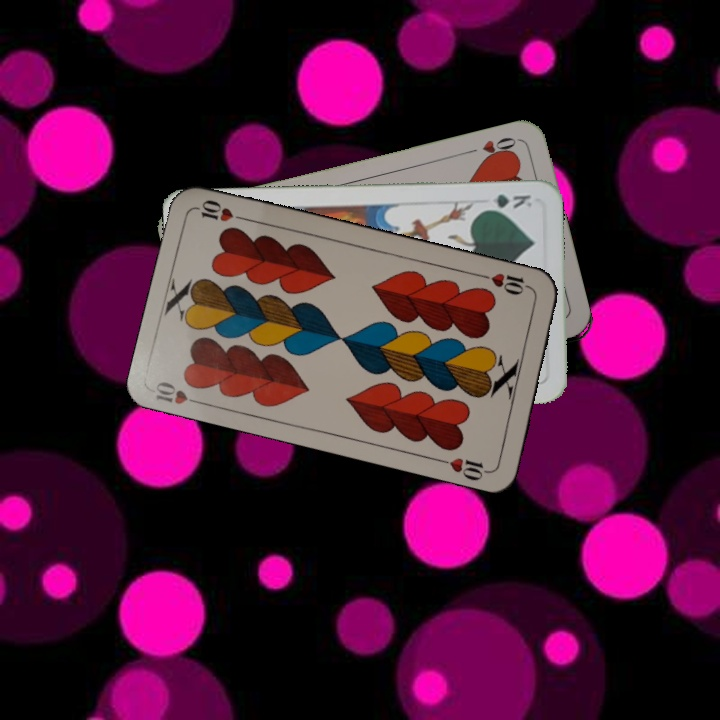GK: (478, 190, 535, 213)
H10: (151, 377, 208, 408), (477, 268, 535, 298)
HO: (462, 133, 521, 164)
